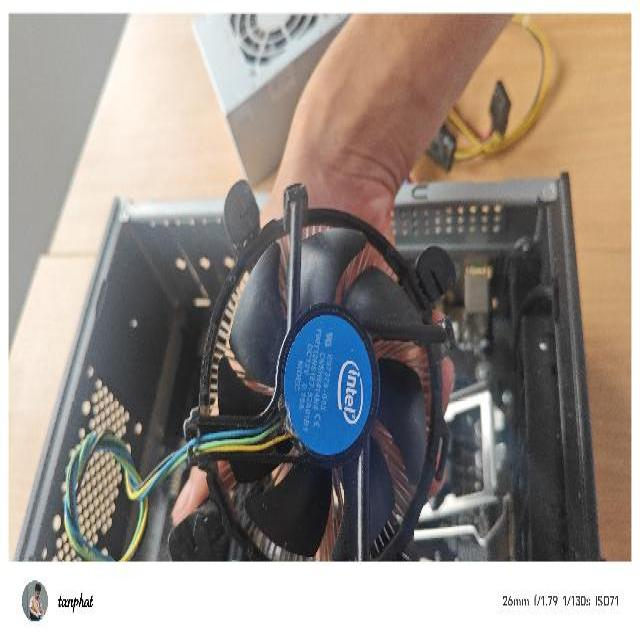CPU_Fan: (144, 180, 458, 562)
